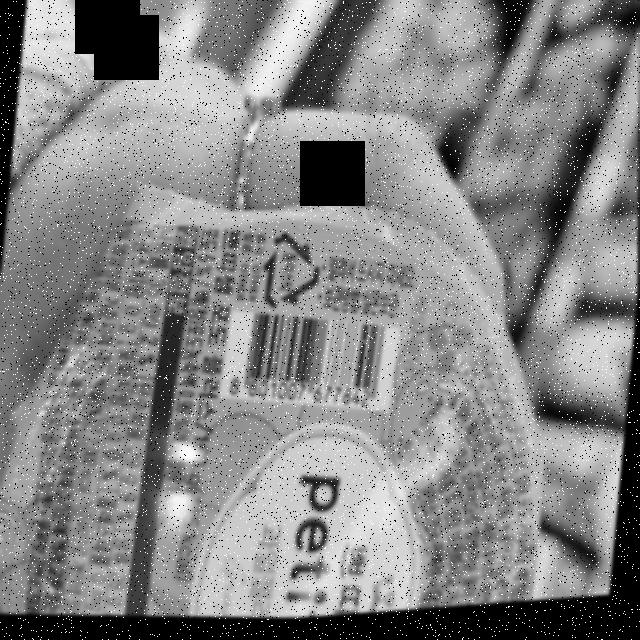Plastic: (260, 230, 325, 318)
